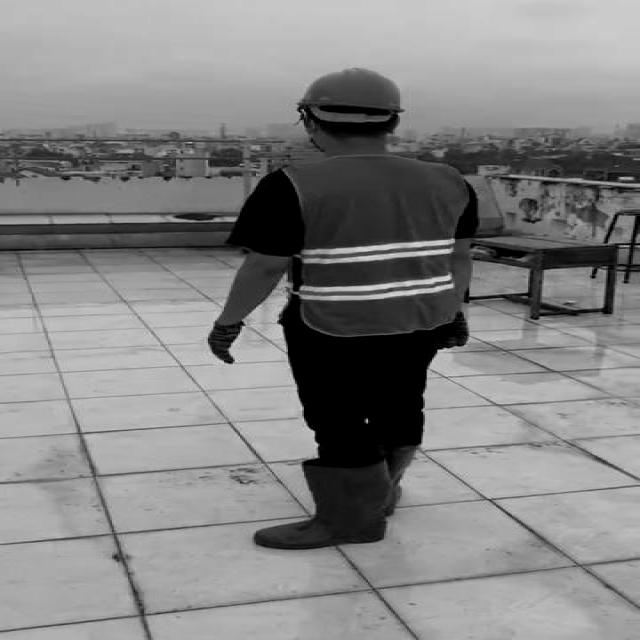boots: (256, 461, 388, 549)
hand_glove: (206, 322, 244, 364), (436, 317, 468, 351)
head_helmet: (292, 65, 406, 114)
person: (197, 65, 476, 554)
vest: (268, 155, 468, 332)
